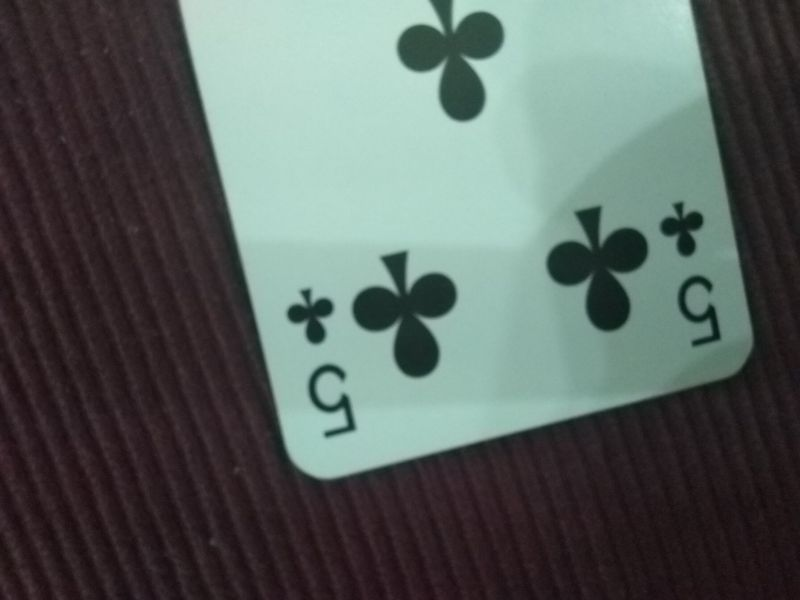5c: (284, 276, 361, 442), (657, 195, 725, 350)
